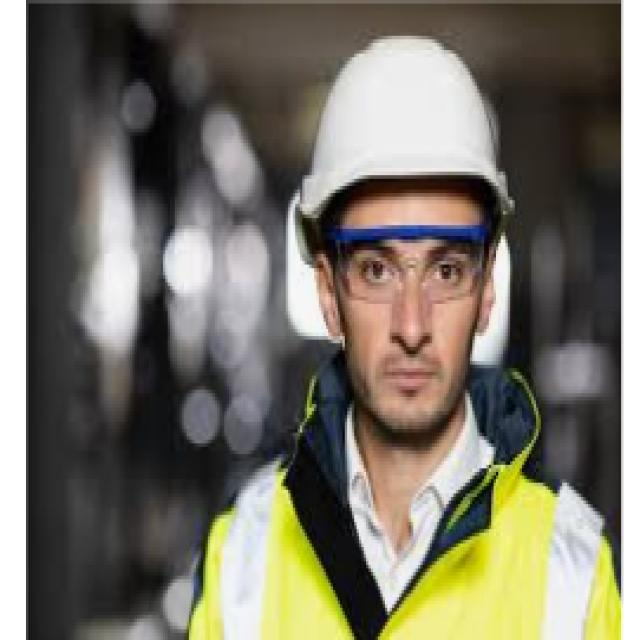glasses: (338, 210, 478, 304)
